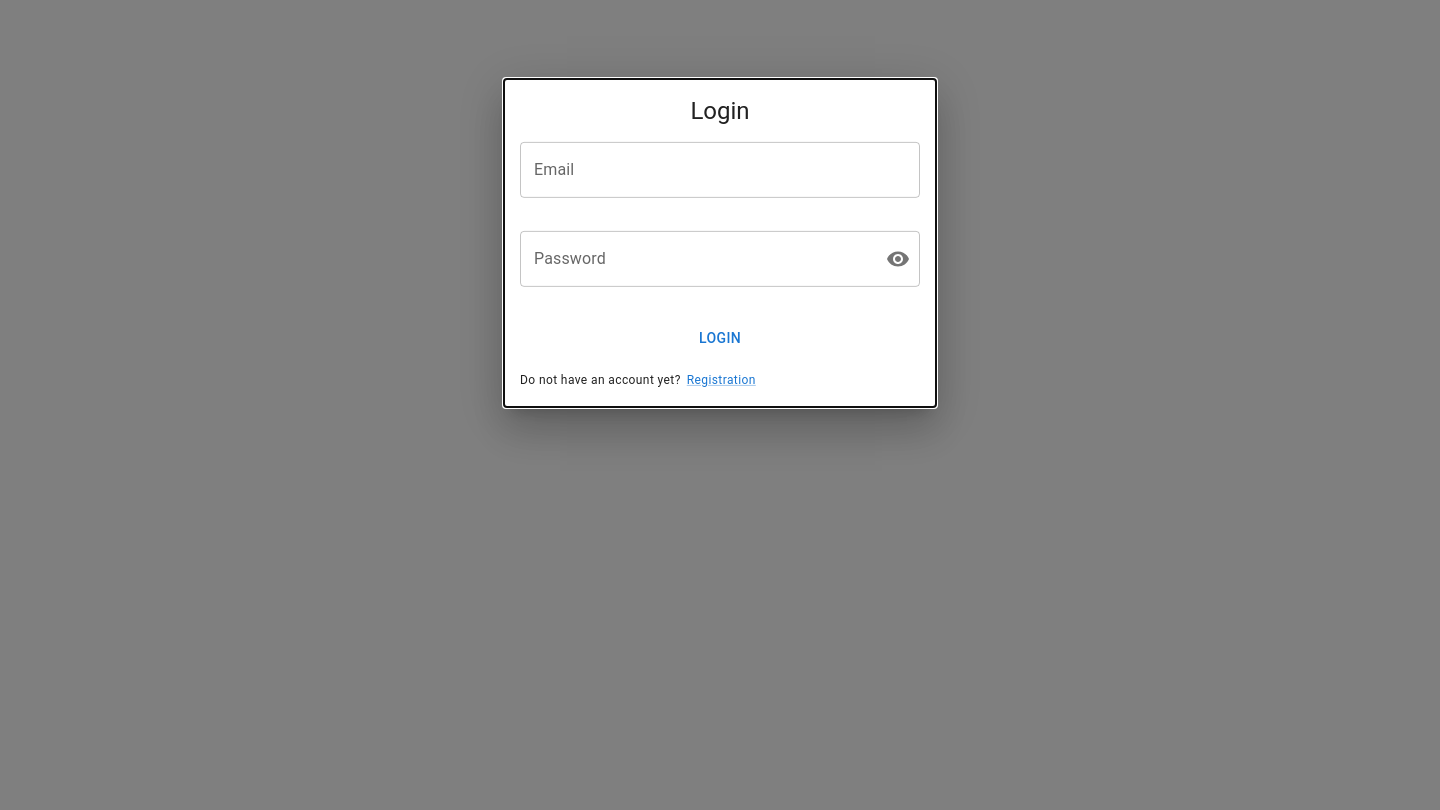
Test: AuthModal › Switch from Login to Registration
Expected: the heading with test id "AuthModal-title" reads "Login", [690, 97, 750, 125]
Click the button with test id "AuthModal-caption-switch".
click(721, 381)  # box [687, 371, 756, 391]
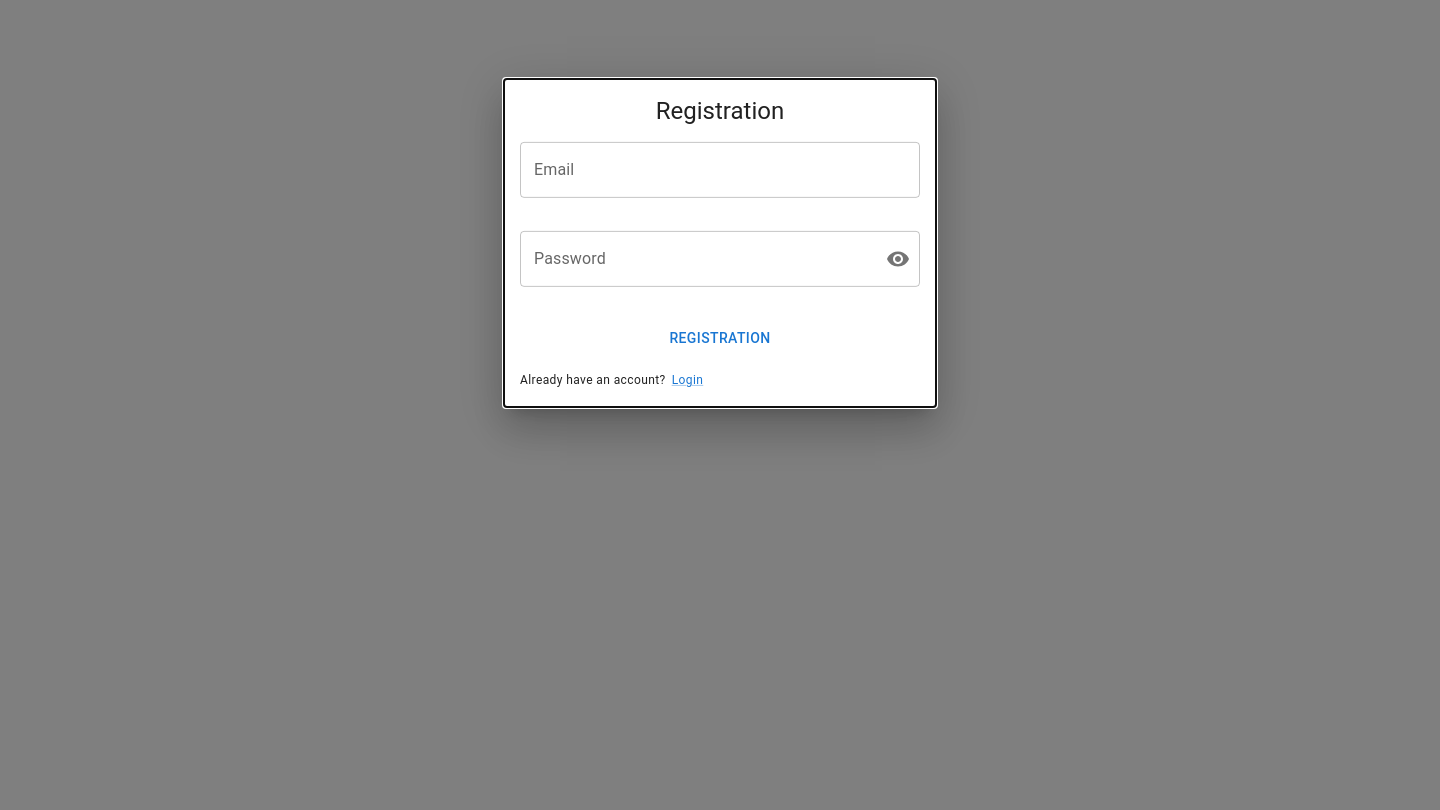
Result: the heading with test id "AuthModal-title" reads "Registration" at [656, 97, 784, 125]
Result: the button with test id "AuthModal-caption-switch" reads "Login" at [672, 371, 703, 391]
